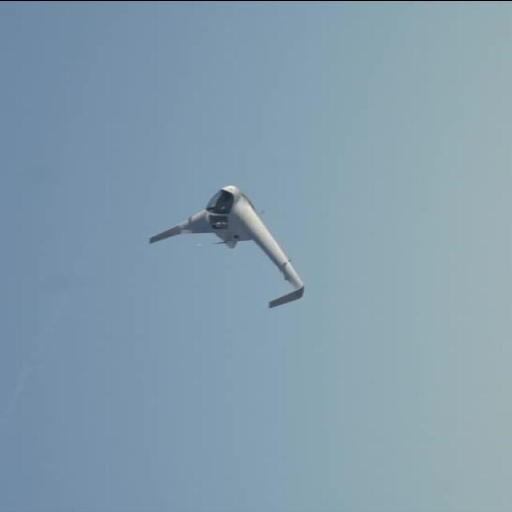uav: (143, 183, 319, 310)
